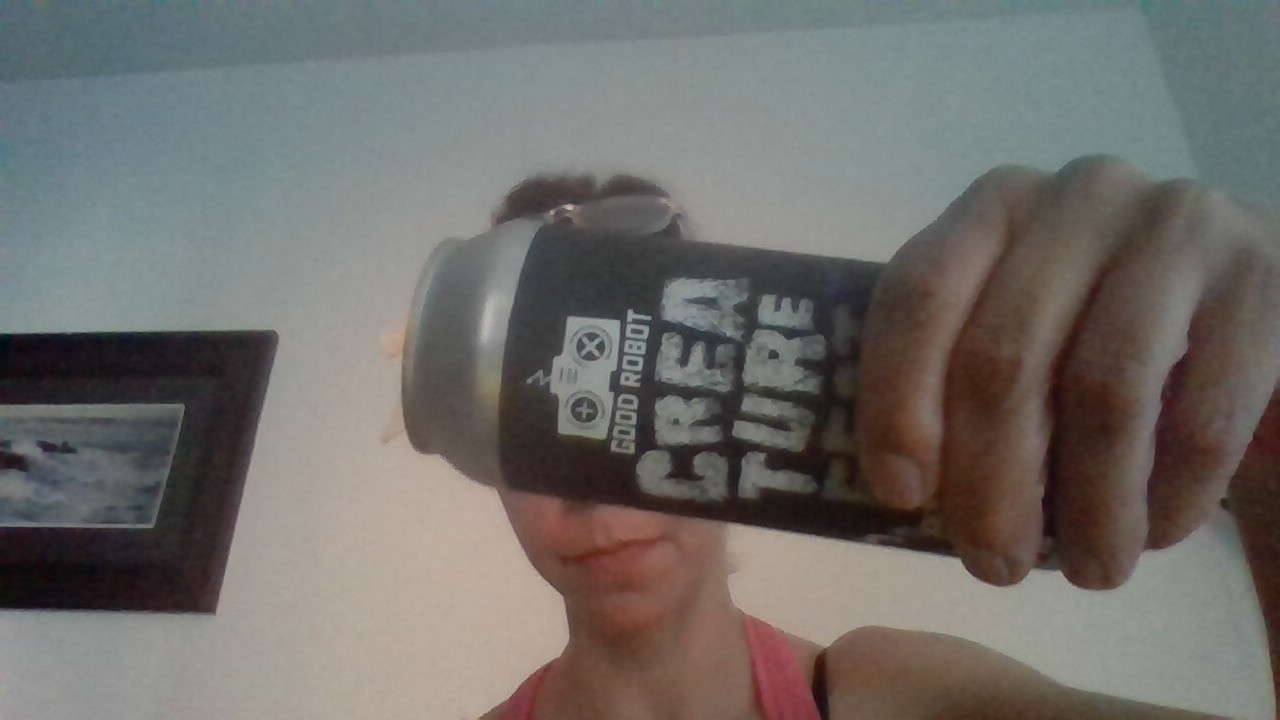Good Robot: (521, 304, 619, 455)
